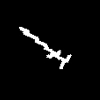double_crochet: (19, 27, 70, 68)
